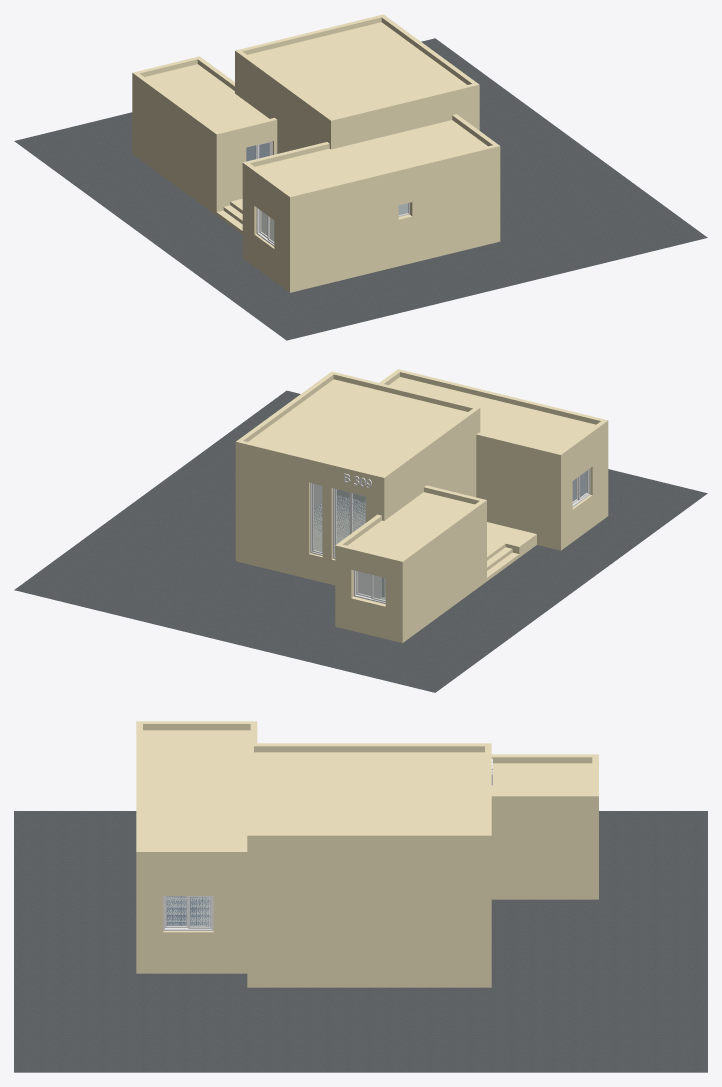
3 views of the same model, one above another, from view 1: azimuth 30°, elevation 25°; view 2: azimuth 150°, elevation 25°; view 3: azimuth 270°, elevation 25° (orthographic). The views are drawn at different scales.
Visible parts, largest first — view 1: 26717, Root Node, 27524; view 2: 26717, Root Node, 27524, B 309; view 3: Root Node, 26717, 27524, B 309.
Part boxes in pixels (<box>): 26717: <box>132,14,500,292</box>; Root Node: <box>14,38,707,340</box>; 27524: <box>246,142,407,241</box>; 26717: <box>235,369,608,642</box>; Root Node: <box>14,390,707,692</box>; 27524: <box>314,471,586,599</box>; B 309: <box>310,468,590,603</box>; Root Node: <box>14,811,707,1072</box>; 26717: <box>136,721,598,987</box>; 27524: <box>166,896,210,926</box>; B 309: <box>163,758,492,930</box>.
Bounding box in the file's own units: 18.44 × 5 × 20.67.
4 materials, 1 textured.
